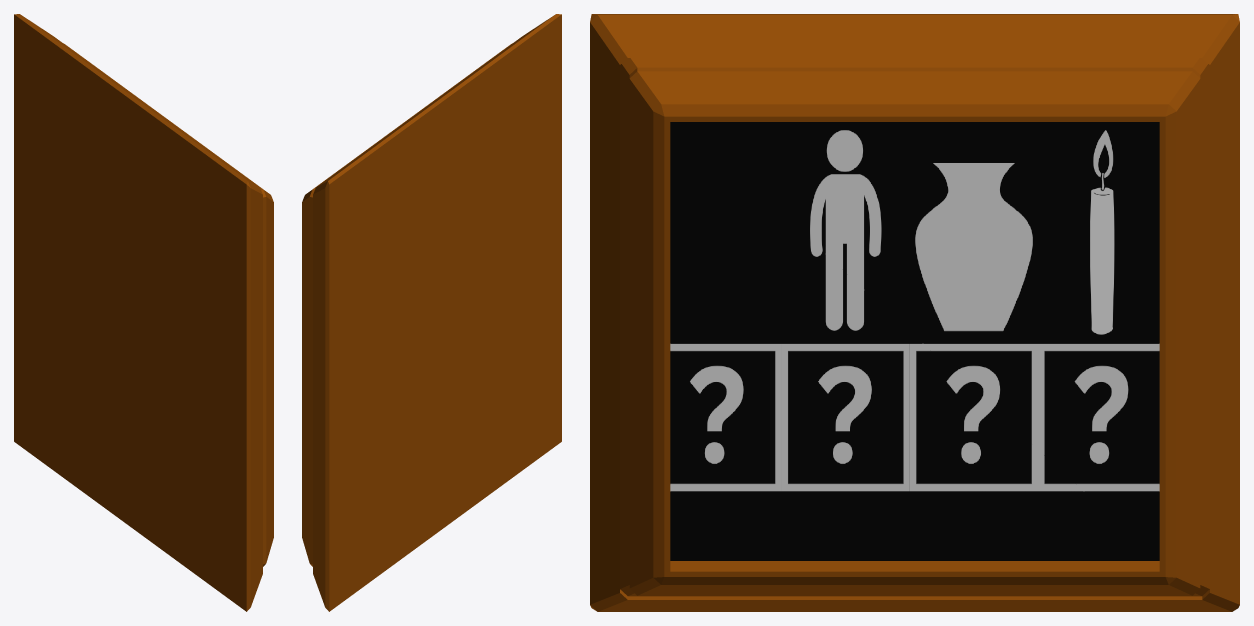
File: Image_HintA3.gltf
The picture shows the model from 3 angles, left to right: view 1: azimuth 30°, elevation 25°; view 2: azimuth 150°, elevation 25°; view 3: azimuth 270°, elevation 25°; orthographic projection. The views are drawn at different scales.
Parts seen in each view (by area): view 1: Plane; view 2: Plane; view 3: Plane.
Boxes of the visible parts, box(x1,y1,x2,y2) form: Plane: box(14, 14, 273, 611); Plane: box(302, 14, 561, 611); Plane: box(590, 14, 1239, 611).
Size of the model in its own units: 0.0513 by 0.3996 by 0.3942.
Materials: 2 (1 with a texture image).
